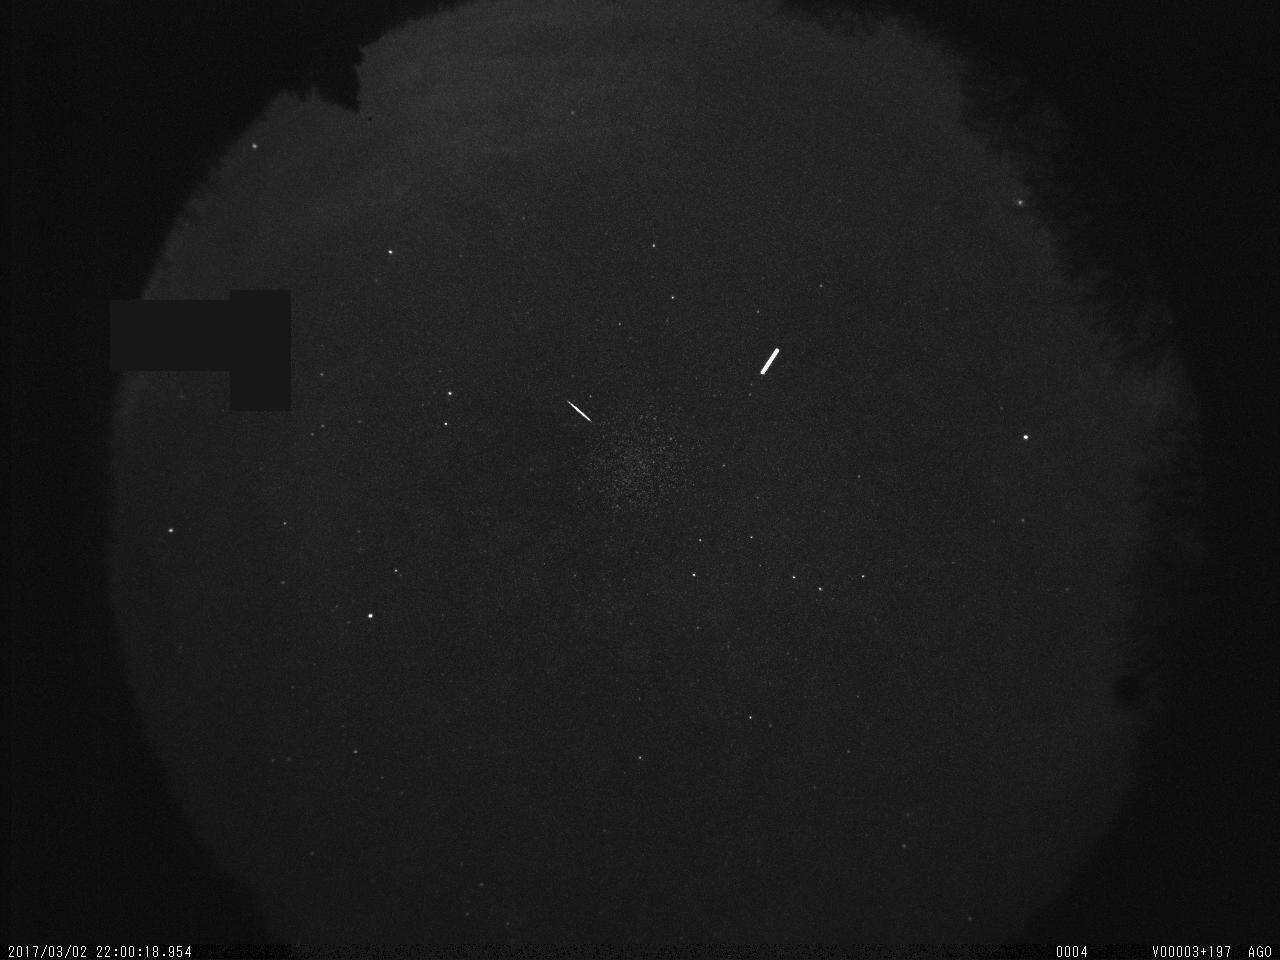meteor: (561, 388, 602, 431)
satelite: (755, 338, 788, 383)
